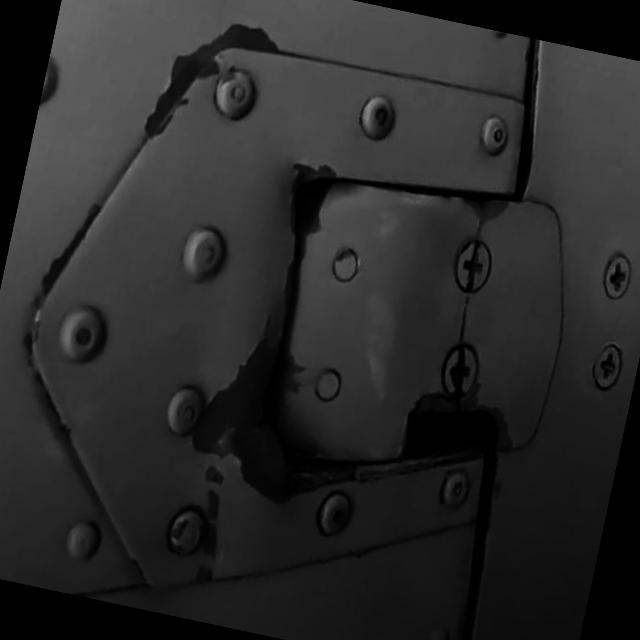crack: (447, 287, 482, 345)
